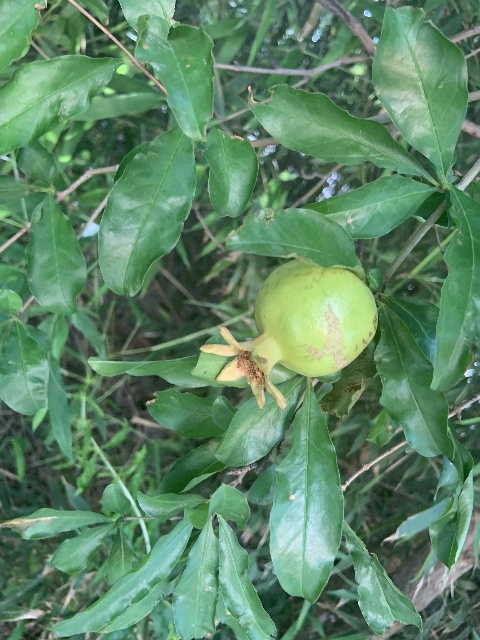mid-growth: (197, 257, 377, 411)
